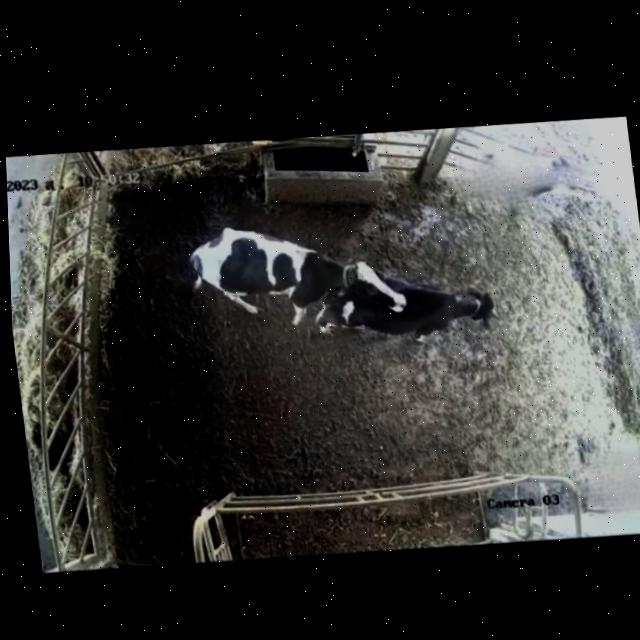ride: (170, 203, 414, 364)
stand: (331, 231, 511, 367)
